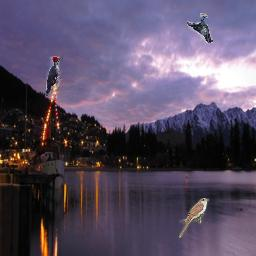Crow: (187, 13, 213, 43)
Cuckoo: (179, 198, 209, 238)
Woodpecker: (46, 56, 63, 96)
